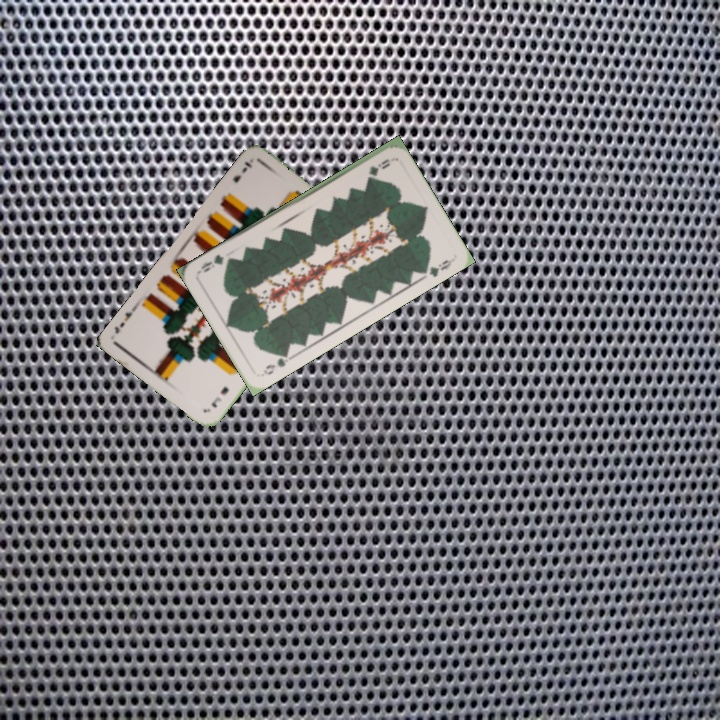E7: (229, 157, 255, 185), (207, 382, 232, 410)
G9: (259, 348, 294, 378), (364, 154, 392, 178)
